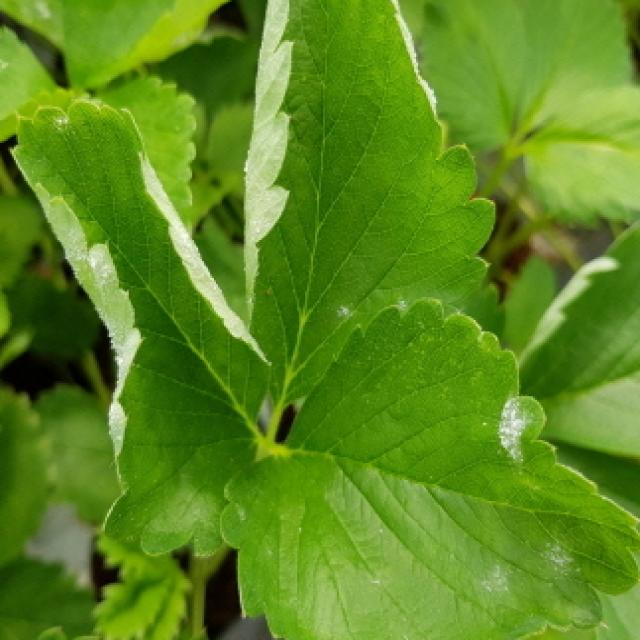Powdery Mildew Leaf: (217, 299, 640, 640), (8, 97, 274, 557), (242, 0, 509, 409), (517, 223, 640, 455)
